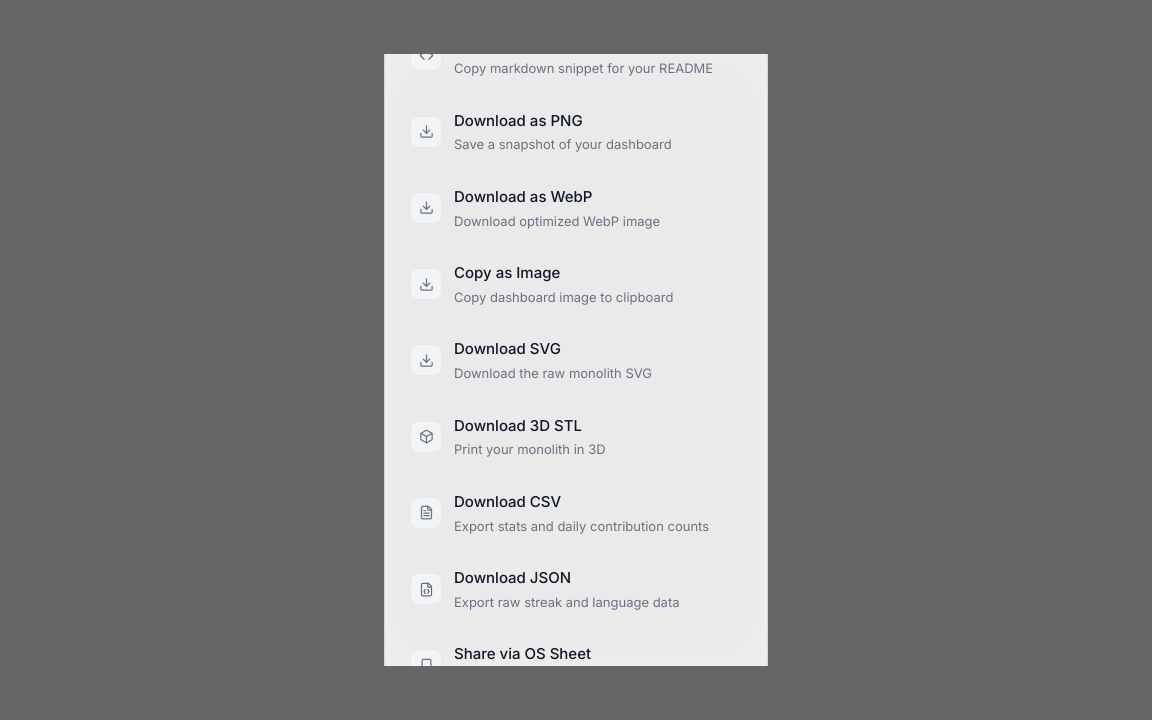
Test case: ShareSheet › handles Download SVG action
This screenshot has width=1152, height=720.
(page scrolled)
Click the button "Download SVG". click: (426, 360)
box: [397,324,755,397]
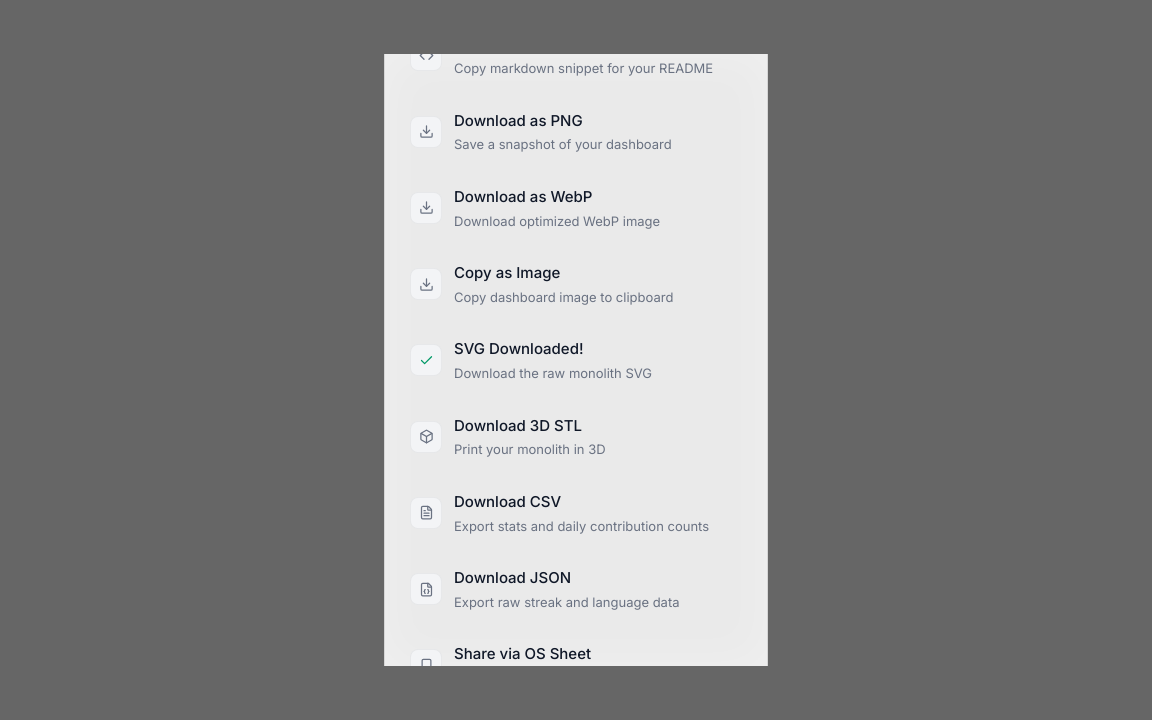
Now the text "SVG Downloaded!" is shown, box [454,339,584,358]
